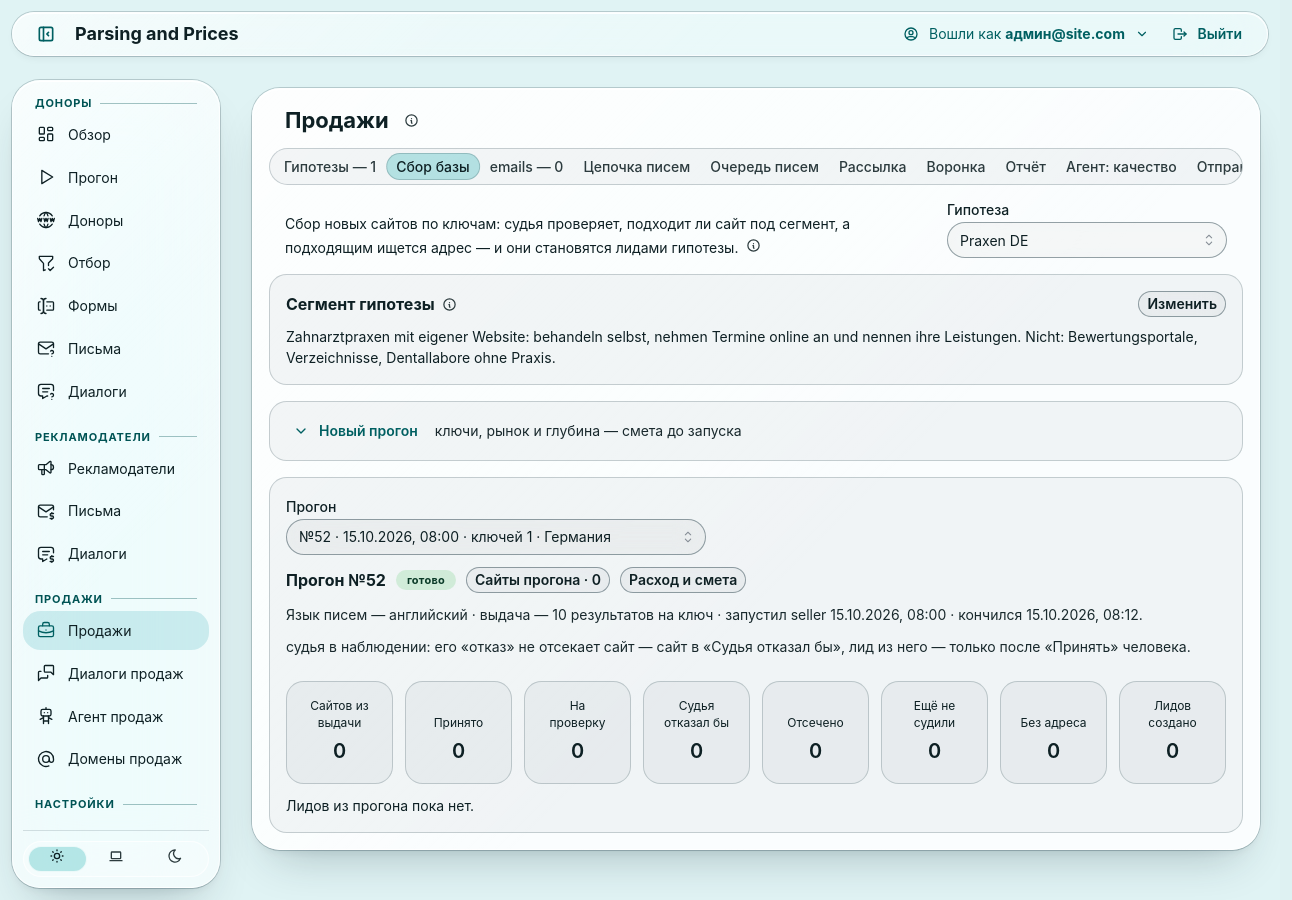
Test: сбор базы компактно: форма свёрнута, описание — три строки › у гипотезы с прогонами форма свёрнута в кнопку «Новый прогон» и раскрывается ею
The image size is (1292, 900).
Expected: the heading "Сегмент гипотезы" is shown, [286, 292, 435, 316]
Expected: the button "Посчитать смету" is not shown
Click the button "Новый прогон" at (355, 431), box [286, 418, 425, 444]
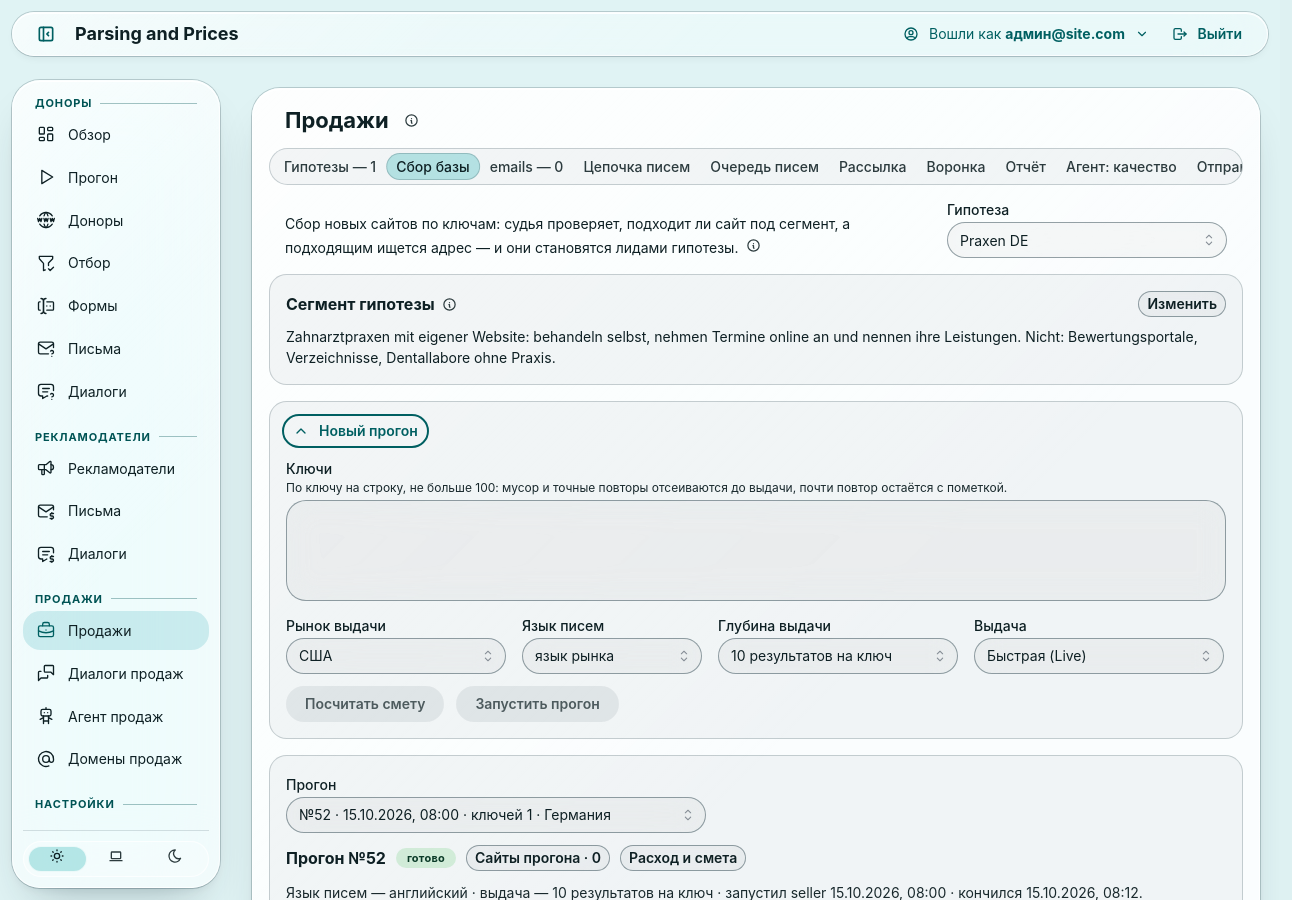
Now the button "Новый прогон" is expanded, box [286, 418, 425, 444]
Now the button "Посчитать смету" is shown, box [286, 686, 444, 722]
Now the text box labelled "Ключи" is shown, box [286, 500, 1226, 601]
